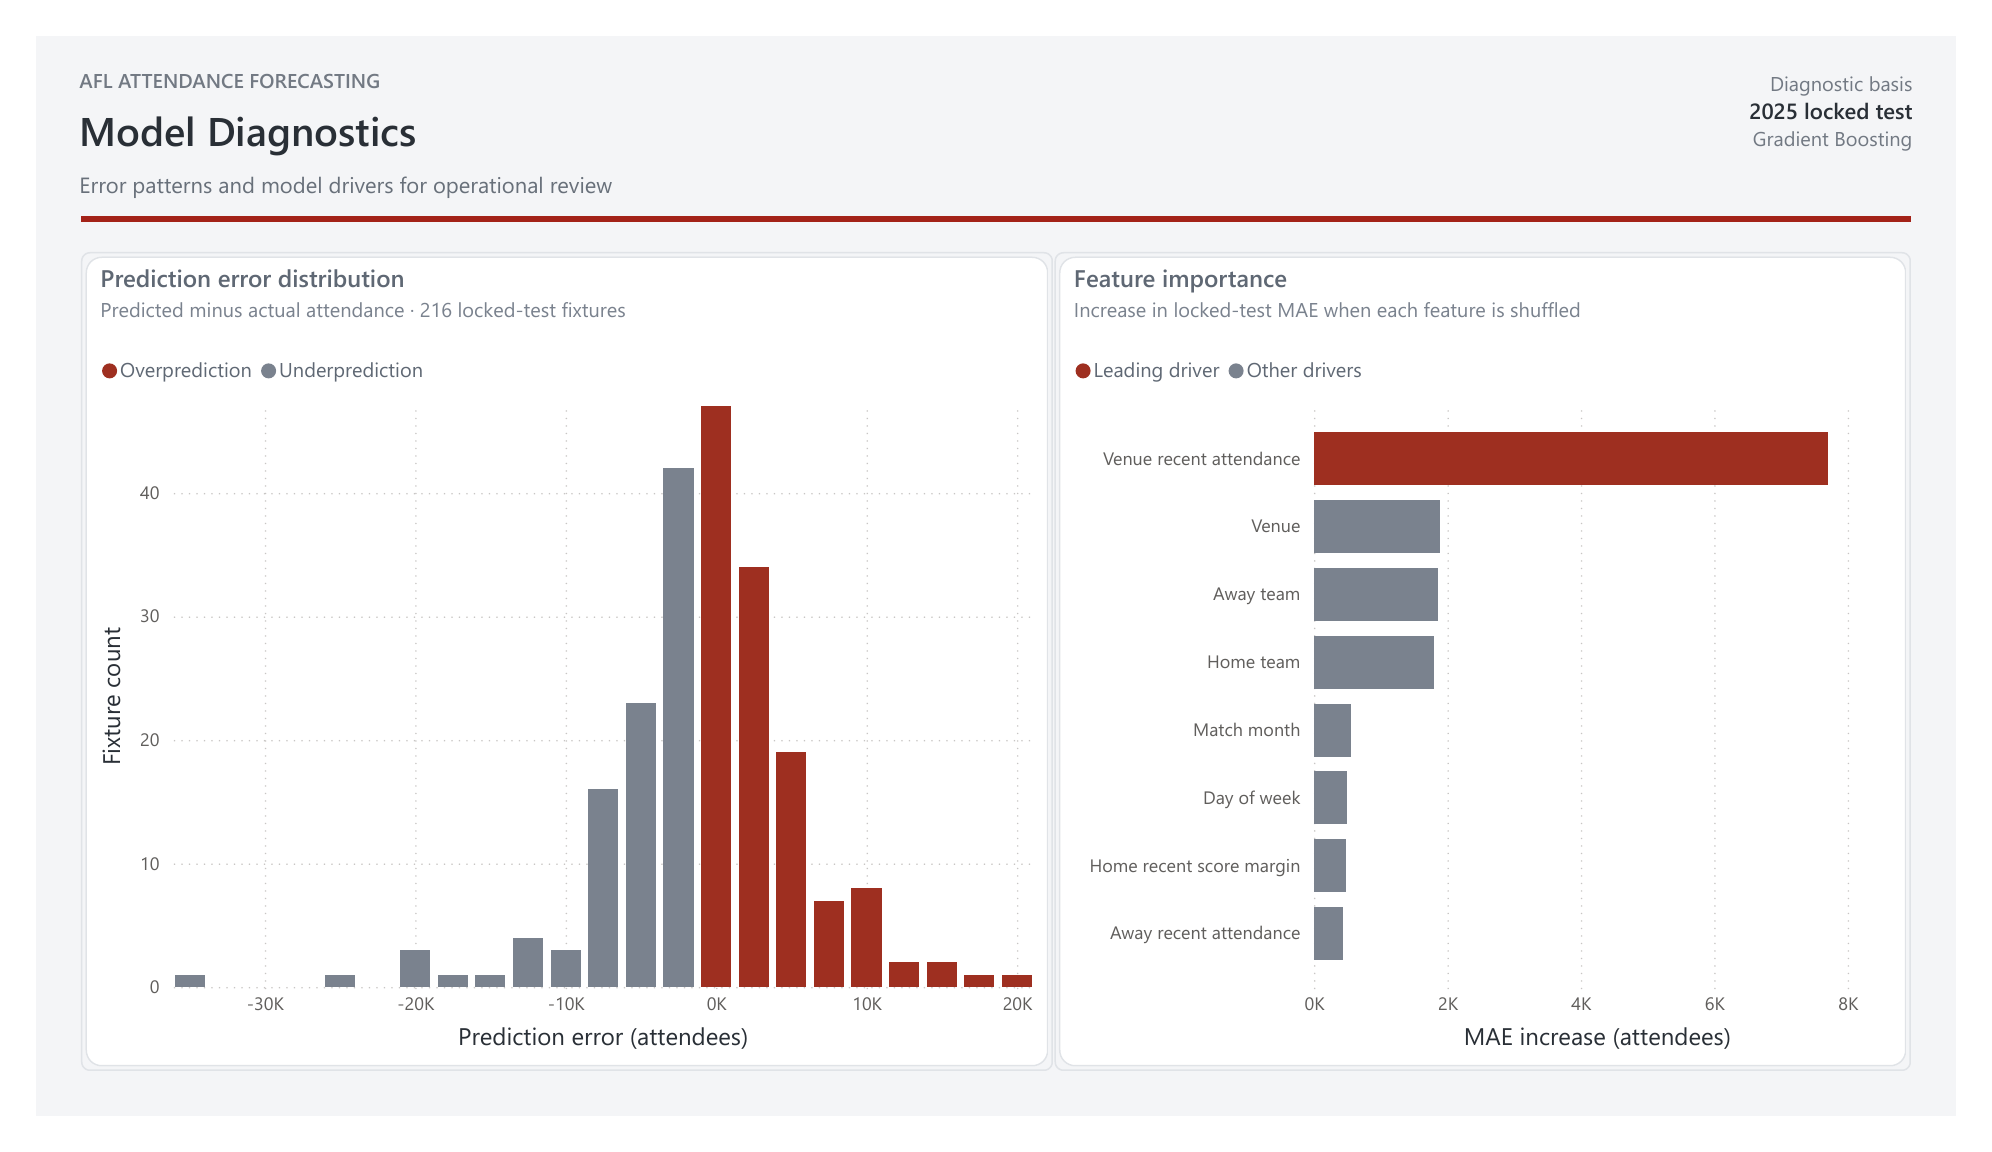

This screenshot's page, from the dashboard's own definition file:
{"tool":"powerbi","page":{"name":"Model Diagnostics","canvas":[1280,720],"ordinal":2},"visuals":[{"type":"textbox","box":[24,16,320,30],"z":0},{"type":"textbox","box":[24,84,620,36],"z":1000},{"type":"textbox","box":[24,40,500,46],"z":2000},{"type":"textbox","box":[970,18,286,78],"z":3000},{"type":"shape","box":[30,116,1220,12],"z":4000},{"type":"shape","title":"Panel - Error Distribution","box":[30,144,648,546],"z":5000},{"type":"shape","title":"Panel - Feature Importance","box":[679,144,571,546],"z":6000},{"type":"columnChart","title":"Prediction error distribution","fields":{"Category":["LockedTestPredictions.error_bin_start"],"Y":["ModelEvaluation.Locked Test Fixture Count"],"Series":["LockedTestPredictions.error_direction"]},"box":[38,151,632,531],"z":7000},{"type":"barChart","title":"Feature importance","fields":{"Category":["FeatureImportance.feature_display_name"],"Y":["FeatureImportance.Feature MAE Increase"],"Series":["FeatureImportance.Driver Category"]},"box":[687,151,555,531],"z":8000}]}

Visuals, with their boxes in screenshot pixels (x1, y1, x2, y2), scaled from the page's 1280x720 canvas onto the 1992x1152 screenshot:
textbox: l=37, t=26, r=535, b=74
textbox: l=37, t=134, r=1002, b=192
textbox: l=37, t=64, r=815, b=138
textbox: l=1510, t=29, r=1955, b=154
shape: l=47, t=186, r=1945, b=205
"Panel - Error Distribution" shape: l=47, t=230, r=1055, b=1104
"Panel - Feature Importance" shape: l=1057, t=230, r=1945, b=1104
"Prediction error distribution" columnChart: l=59, t=242, r=1043, b=1091
"Feature importance" barChart: l=1069, t=242, r=1933, b=1091
